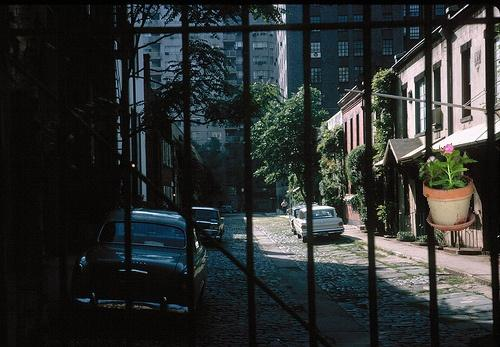tampered: (419, 144, 478, 231)
